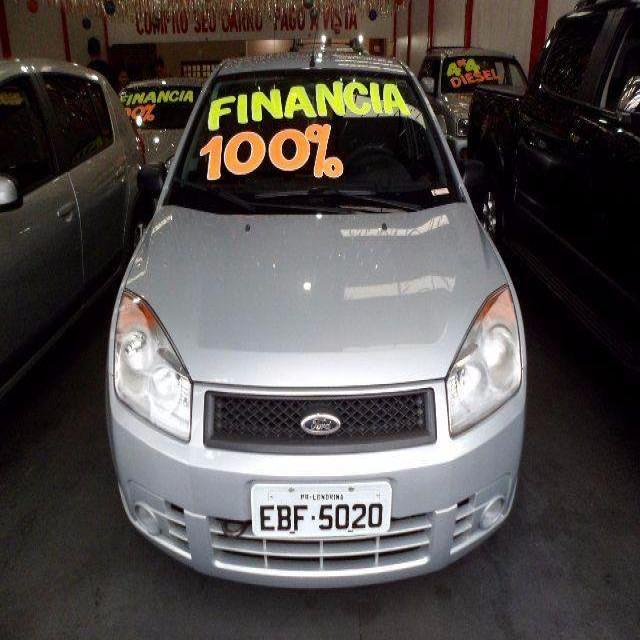Placa: (245, 473, 396, 541)
